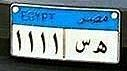1: (52, 32, 59, 55), (16, 29, 22, 52), (28, 30, 33, 54), (41, 31, 46, 54)
haa: (93, 40, 109, 55)
seen: (73, 38, 91, 55)
